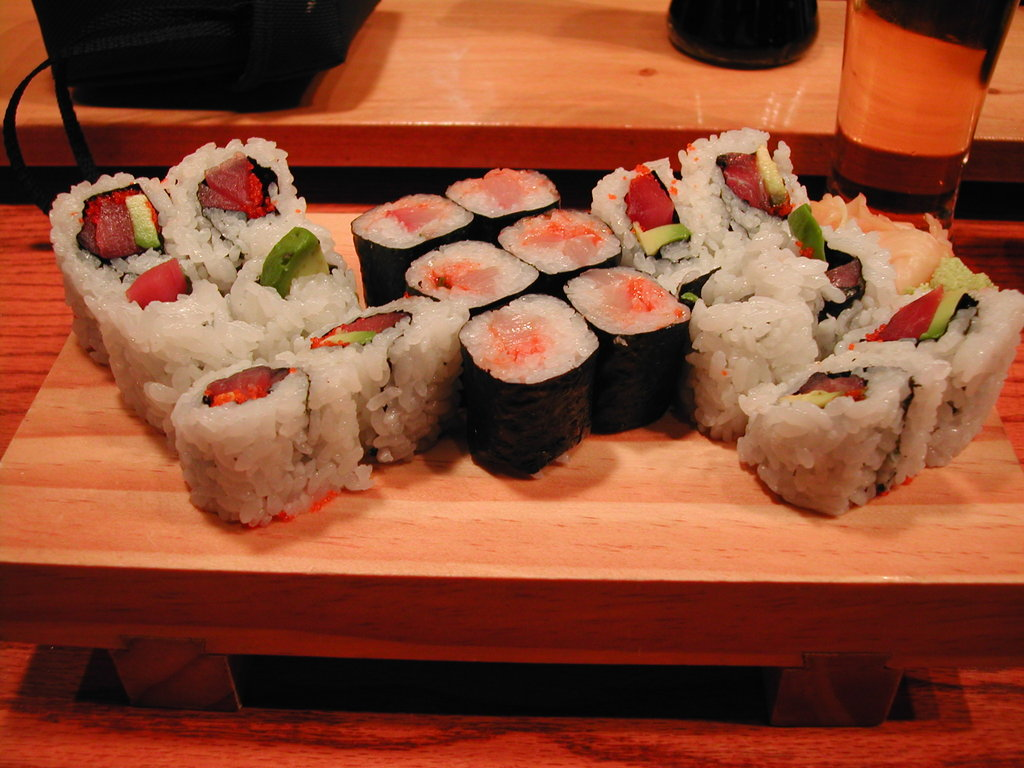sushi: (50, 130, 1022, 520), (161, 361, 360, 529)
